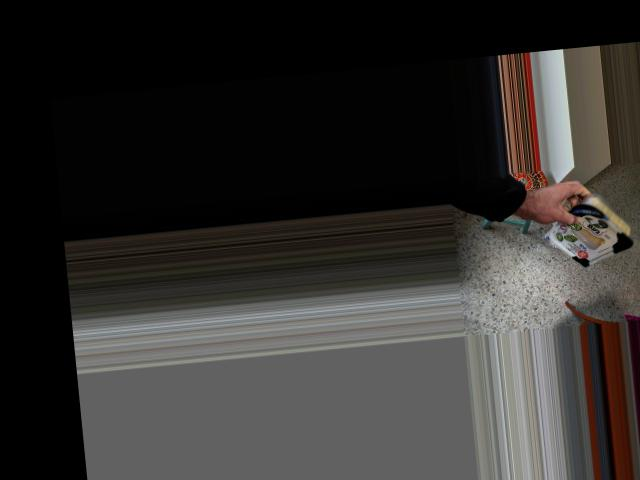cheese: (548, 168, 636, 280)
